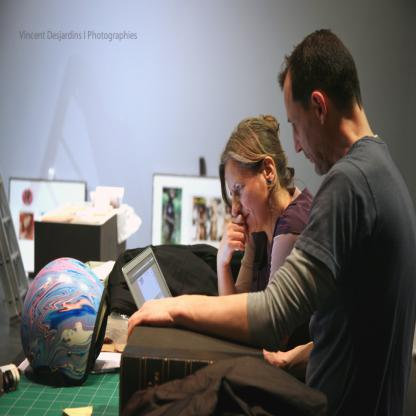Ball: (19, 257, 103, 382)
